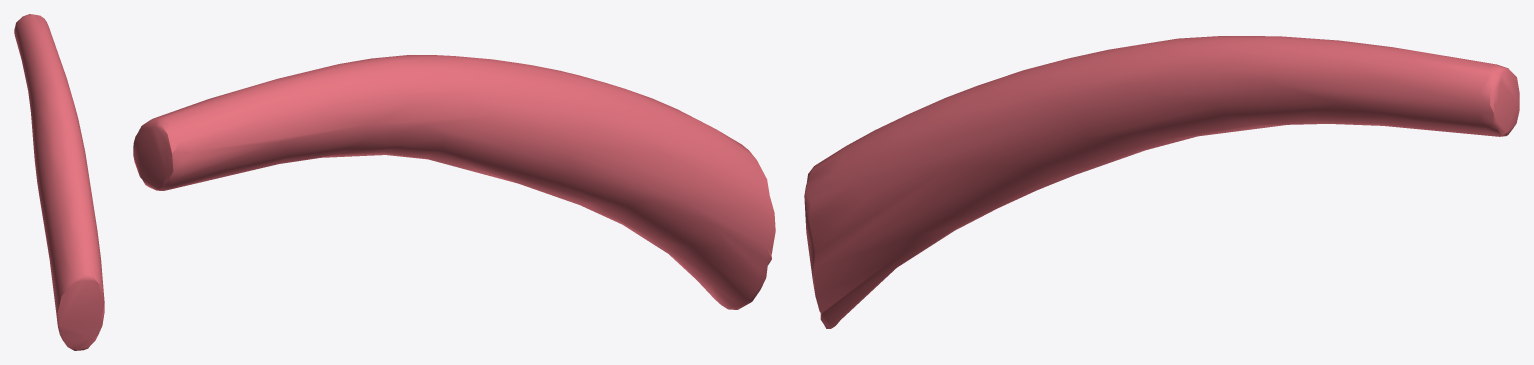
File: fma8617_fj6059.glb
The picture shows the model from 3 angles, left to right: view 1: azimuth 30°, elevation 25°; view 2: azimuth 150°, elevation 25°; view 3: azimuth 270°, elevation 25°; orthographic projection. The views are drawn at different scales.
Parts seen in each view (by area): view 1: FMA8617_FJ6059; view 2: FMA8617_FJ6059; view 3: FMA8617_FJ6059.
Part boxes in pixels (bbox=[...]): FMA8617_FJ6059: bbox=[14, 14, 104, 350]; FMA8617_FJ6059: bbox=[133, 55, 775, 309]; FMA8617_FJ6059: bbox=[804, 36, 1519, 328].
Size of the model in its own units: 0.00789 by 0.00908 by 0.0157.
